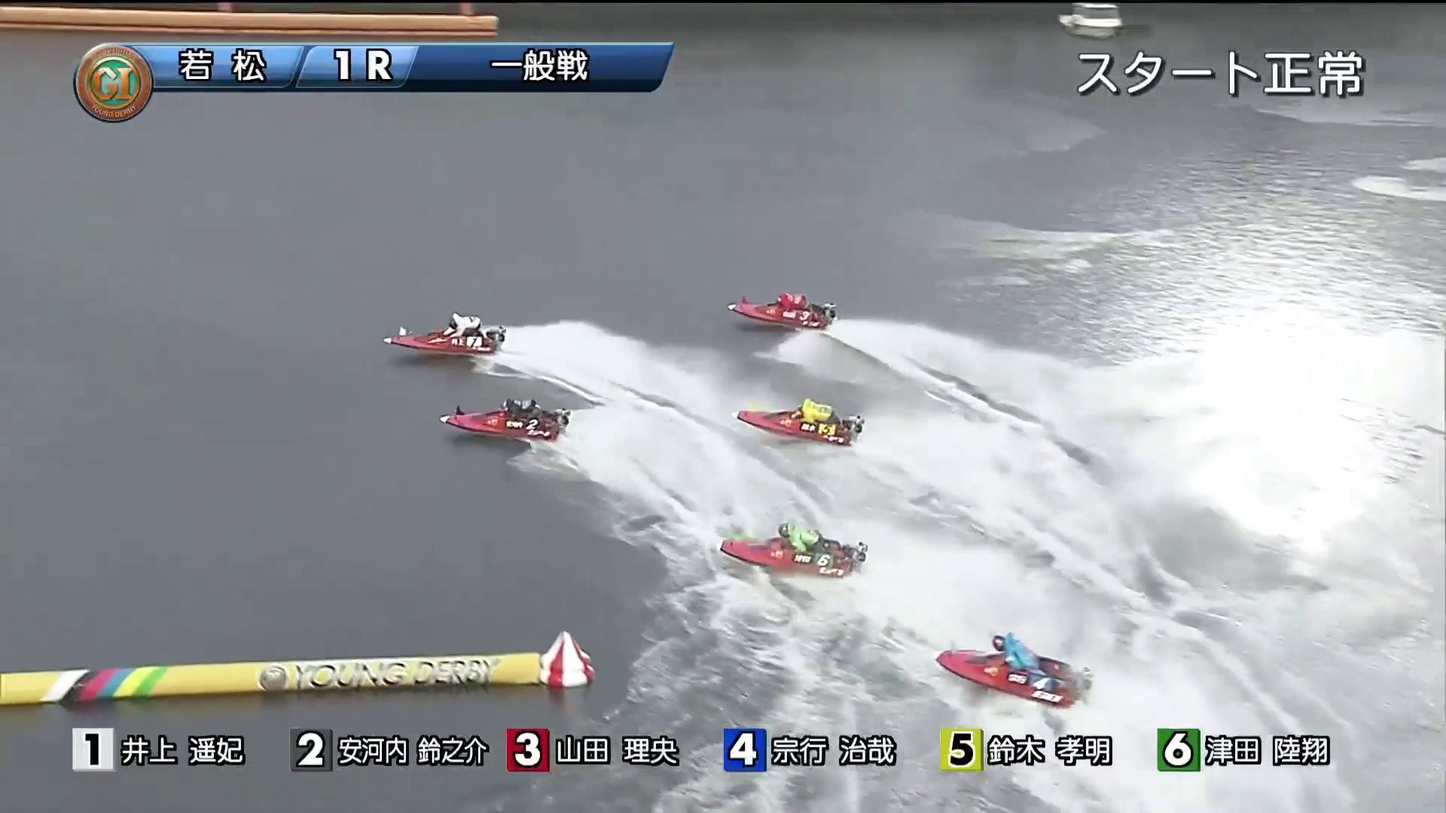１号艇: (404, 278, 475, 332)
２号艇: (425, 370, 554, 431)
３号艇: (751, 261, 849, 316)
４号艇: (735, 501, 869, 567)
５号艇: (962, 645, 1086, 700)
６号艇: (741, 357, 841, 437)
